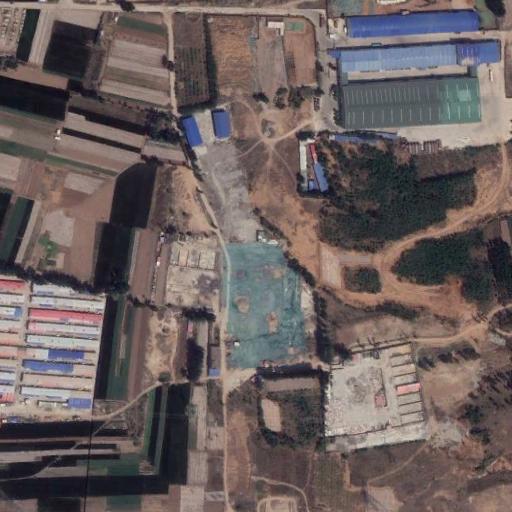cw: (218, 237, 311, 367)
